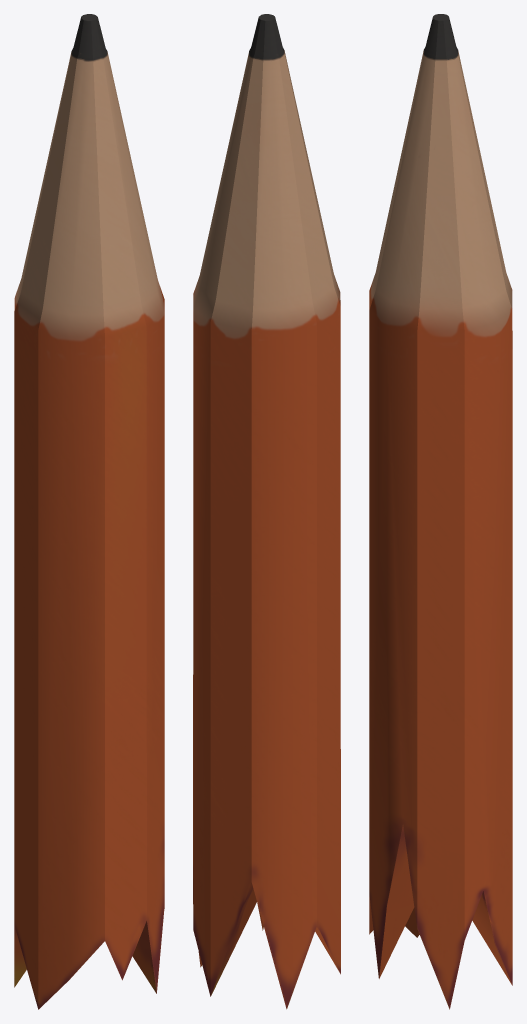
Rendered from broken pencil (top).fbx.
3 views of the same model, side by side, from view 1: azimuth 30°, elevation 25°; view 2: azimuth 150°, elevation 25°; view 3: azimuth 270°, elevation 25° (orthographic).
Visible parts, largest first — view 1: Pencil_model; view 2: Pencil_model; view 3: Pencil_model.
Part boxes in pixels (bbox=[...]): Pencil_model: bbox=[14, 14, 164, 1009]; Pencil_model: bbox=[193, 14, 340, 1009]; Pencil_model: bbox=[369, 14, 512, 1009].
Bounding box in the file's own units: 2.74 × 20.28 × 2.74.
